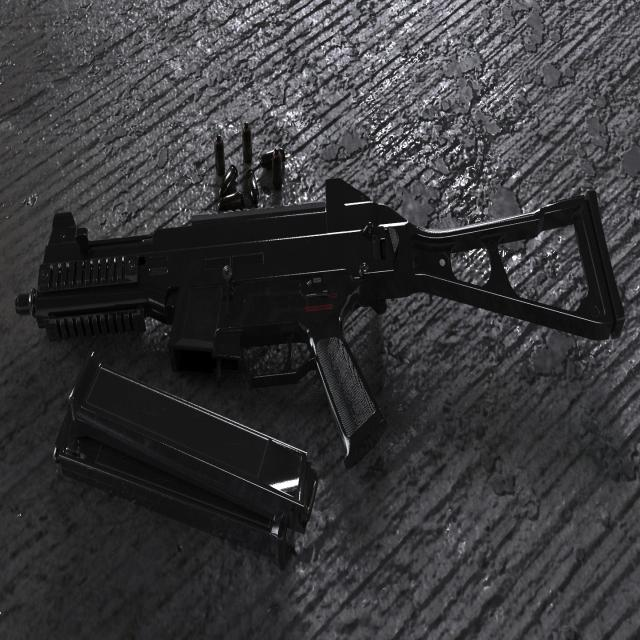Gun: (7, 129, 639, 518)
